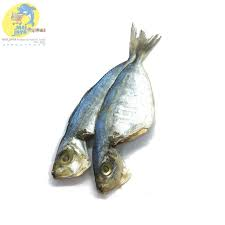Ikan Selar: (91, 31, 168, 202)
